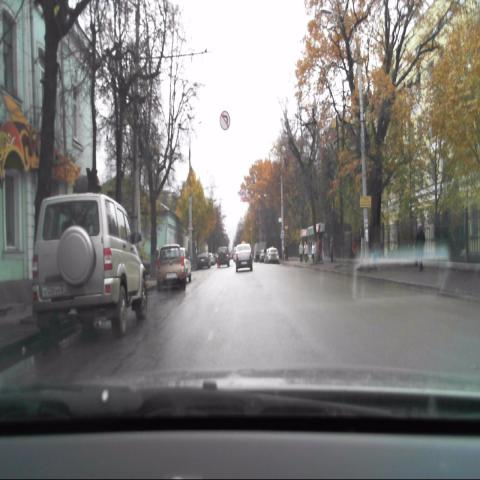3_18_2: (219, 110, 231, 131)
